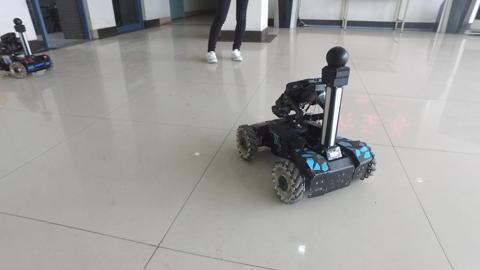chariot: (234, 44, 378, 204), (1, 15, 55, 80)
